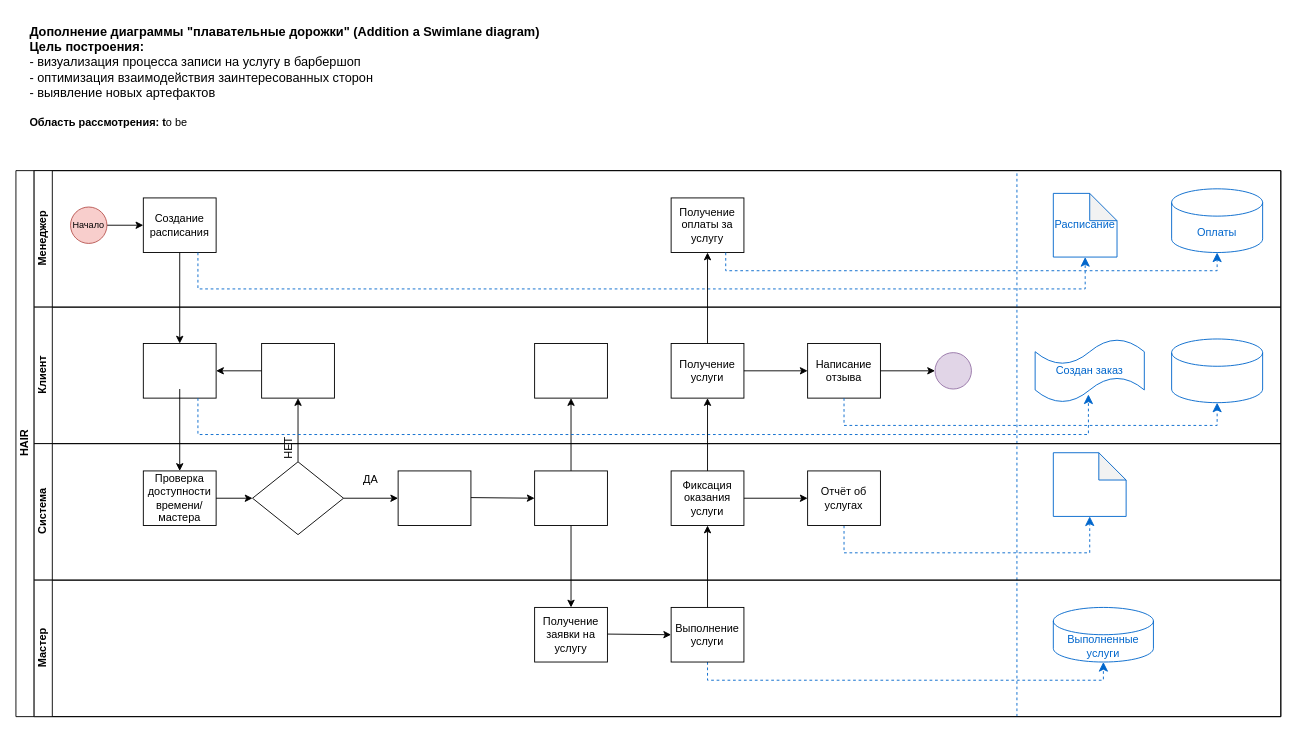
Some shapes in this 1297 by 733 pixel diagram are drawn without their labels. Here are the shapes that lost their labels. From the top down, the box of each, then its label:
(142, 343, 216, 398): Выбор услуги, времени, мастера
(261, 343, 334, 398): Новый выбор
(534, 343, 607, 398): Получение напоминания
(934, 352, 971, 389): конец
(1171, 338, 1263, 403): Отзывы
(252, 461, 344, 535): Время/мастер доступны?
(397, 470, 471, 526): Подтвержде-ние записи
(534, 470, 607, 526): Отправка напоминания клиенту
(1052, 452, 1126, 516): Отчёт о выполненных услугах
